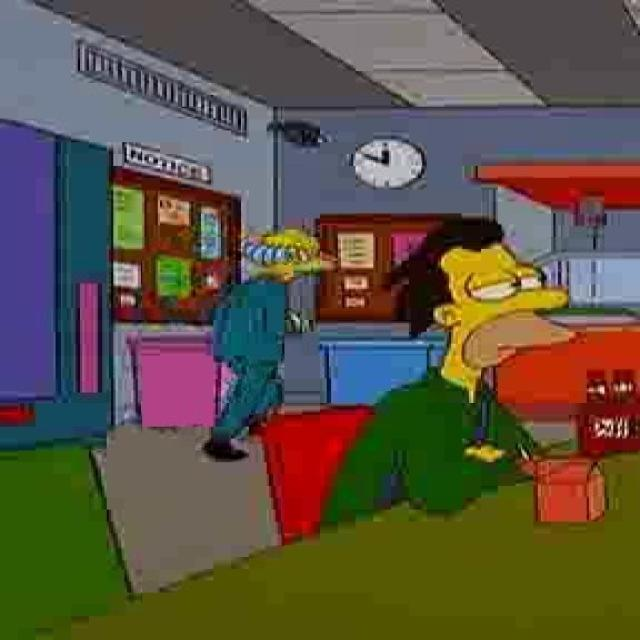Charles Montgomery Burns: (222, 222, 338, 279)
